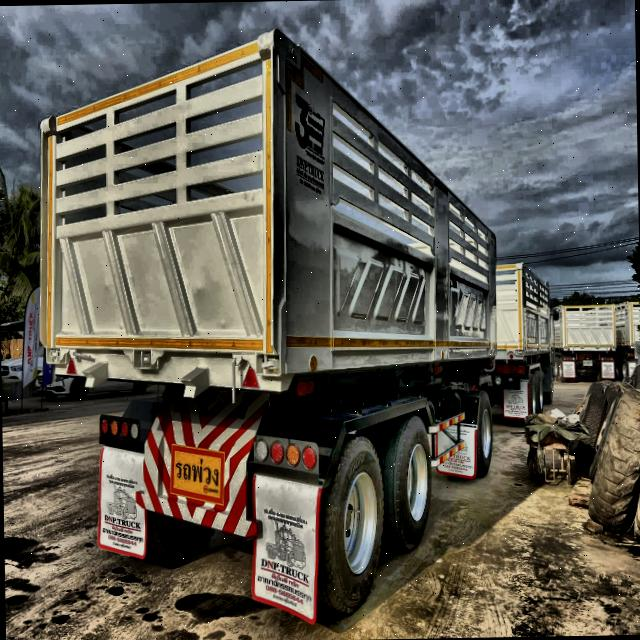trailer: (34, 13, 562, 640)
